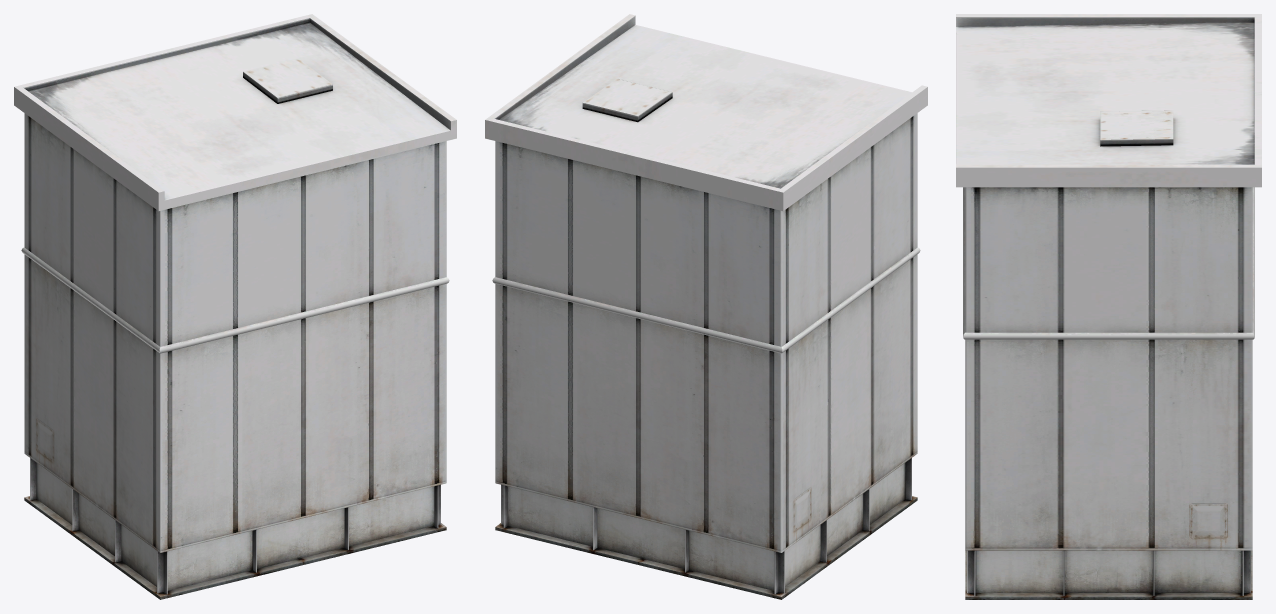
Rendered from S_RooftopBoxes_10.dae.
3 renders of one model, left to right at view 1: azimuth 30°, elevation 25°; view 2: azimuth 150°, elevation 25°; view 3: azimuth 270°, elevation 25°, orthographic. The views are drawn at different scales.
Parts seen in each view (by area): view 1: S_RooftopBoxes_10.003; view 2: S_RooftopBoxes_10.003; view 3: S_RooftopBoxes_10.003.
Boxes of the visible parts, x1=… form: S_RooftopBoxes_10.003: x1=14, y1=14, x2=456, y2=599; S_RooftopBoxes_10.003: x1=485, y1=14, x2=927, y2=599; S_RooftopBoxes_10.003: x1=956, y1=14, x2=1261, y2=599.
Size of the model in its own units: 2 by 1.68 by 2.64.
